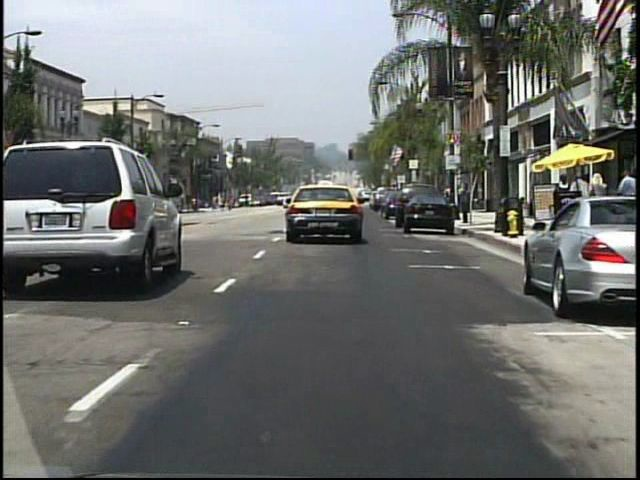person: (615, 170, 637, 229), (568, 170, 591, 226), (588, 170, 610, 225), (551, 172, 571, 226), (243, 193, 251, 209)
